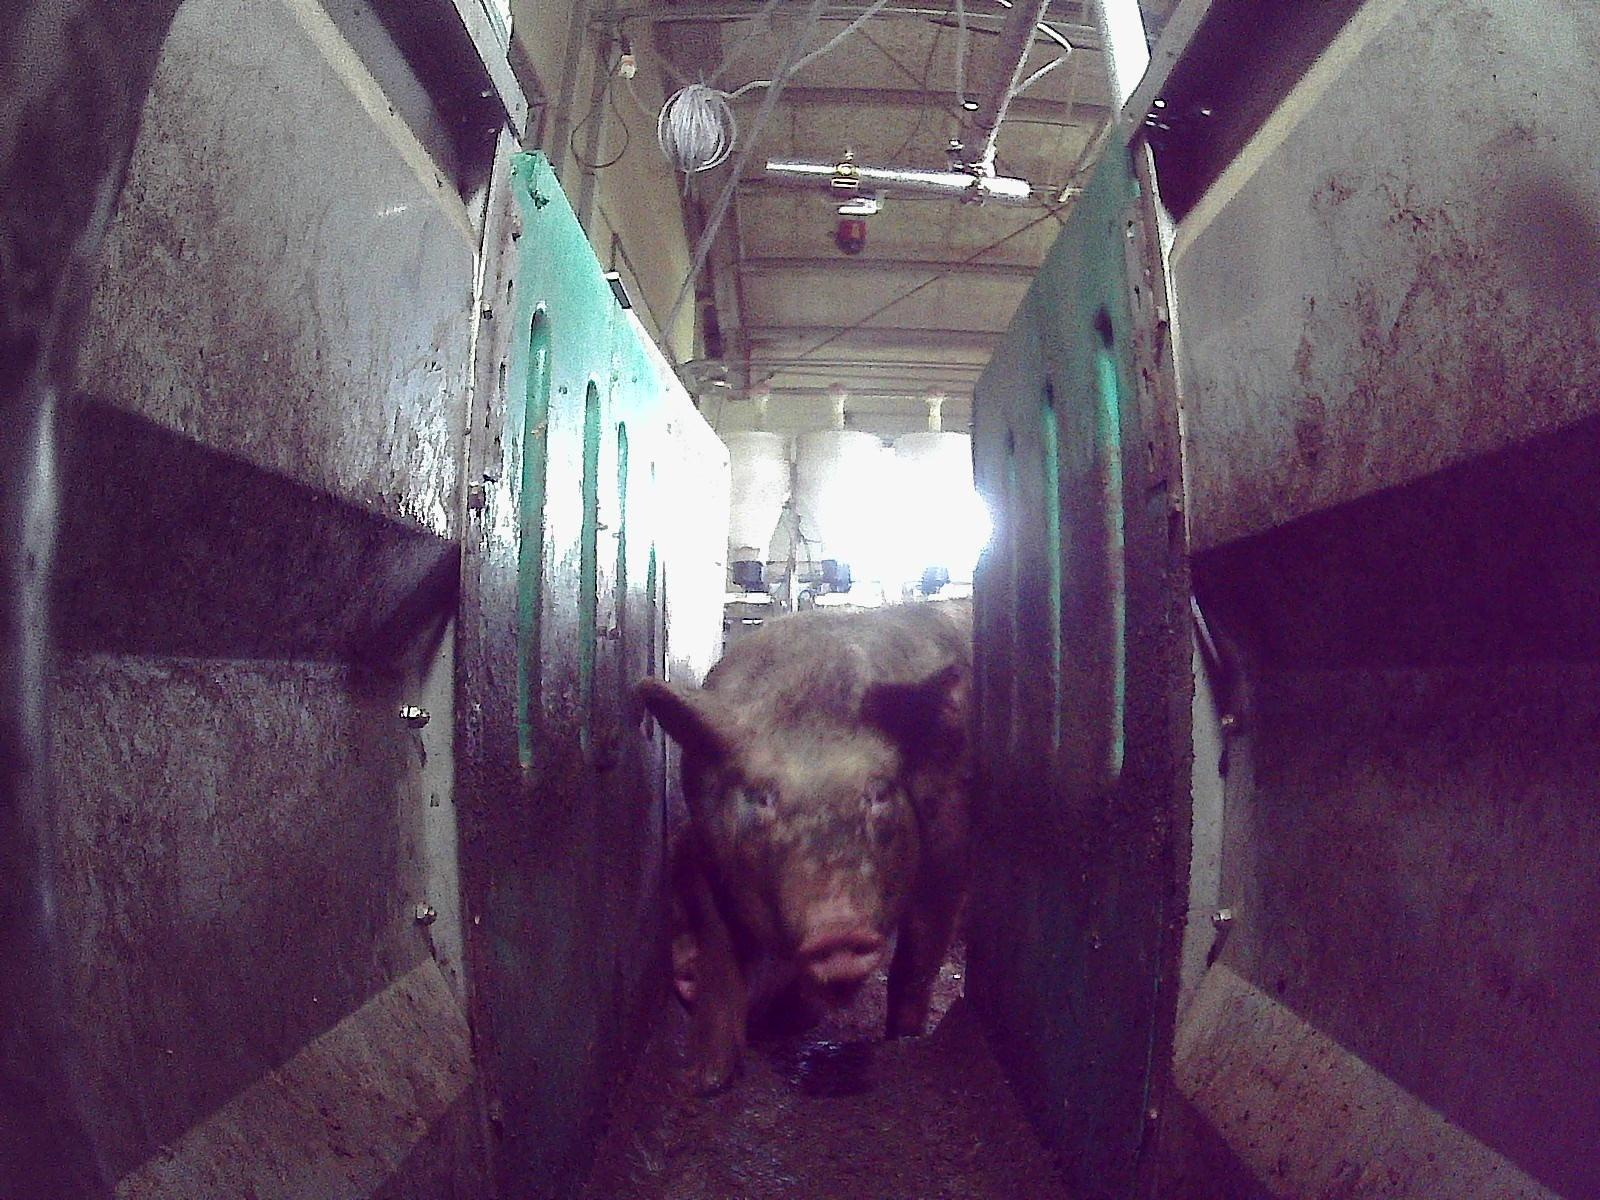Face: (692, 703, 927, 981)
